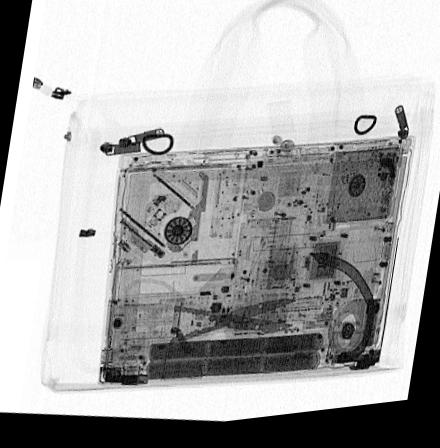Scissors: (119, 277, 300, 376)
